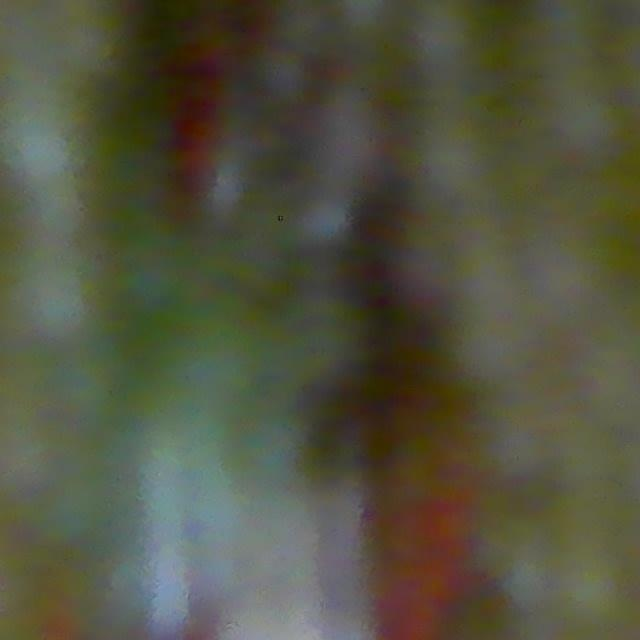SeaGrape: (18, 254, 104, 344)
